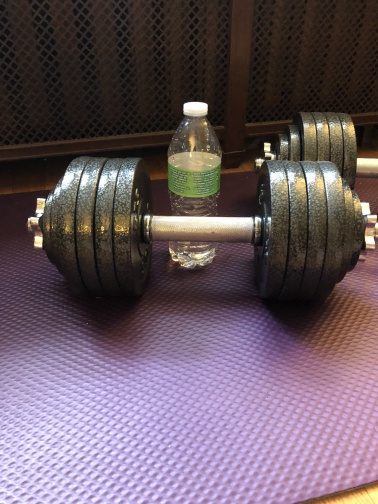bottle: (163, 99, 224, 271)
